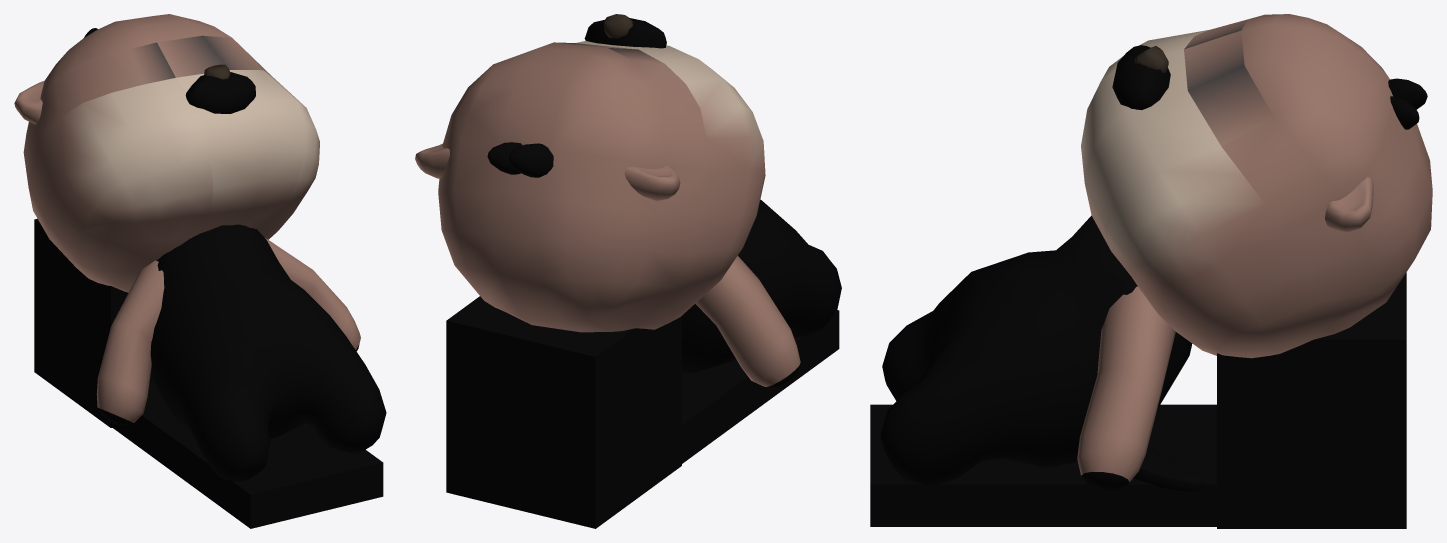
Rendered from ottis_Ded.fbx.
3 views of the same model, side by side, from view 1: azimuth 30°, elevation 25°; view 2: azimuth 150°, elevation 25°; view 3: azimuth 270°, elevation 25° (orthographic). The views are drawn at different scales.
Parts seen in each view (by area): view 1: ottis_Ded; view 2: ottis_Ded; view 3: ottis_Ded.
Boxes of the visible parts, x1,y1,x2,y2 form: ottis_Ded: (14,14,386,528); ottis_Ded: (415,14,841,528); ottis_Ded: (870,14,1432,528).
Bounding box in the file's own units: 1.96 × 2.67 × 2.97.
